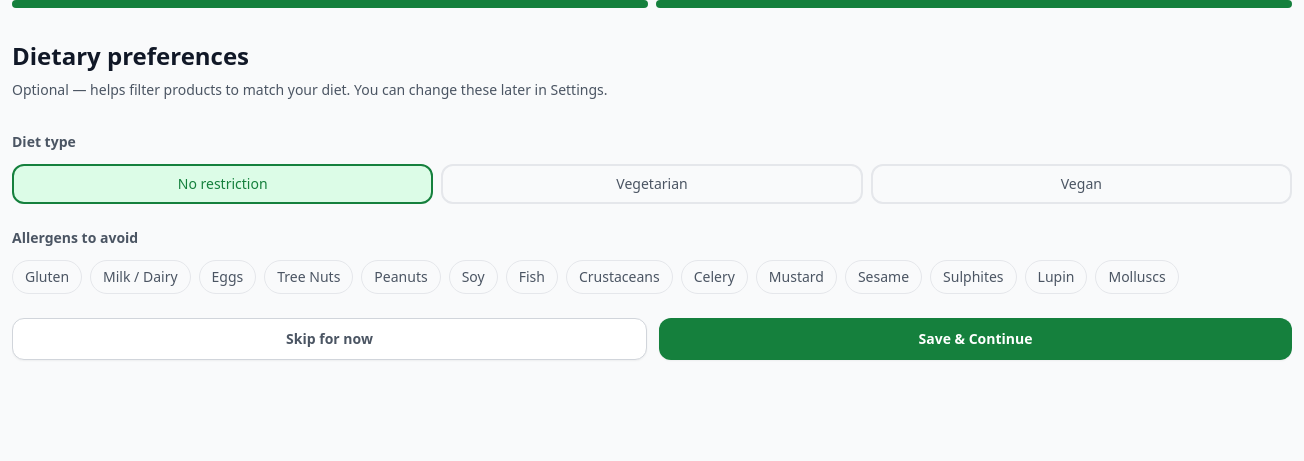
PreferencesForm › shows allergen strictness toggles after selecting an allergen
Step 1. Click the button "Gluten" → coordinates (47, 277), box [12,260,82,294]
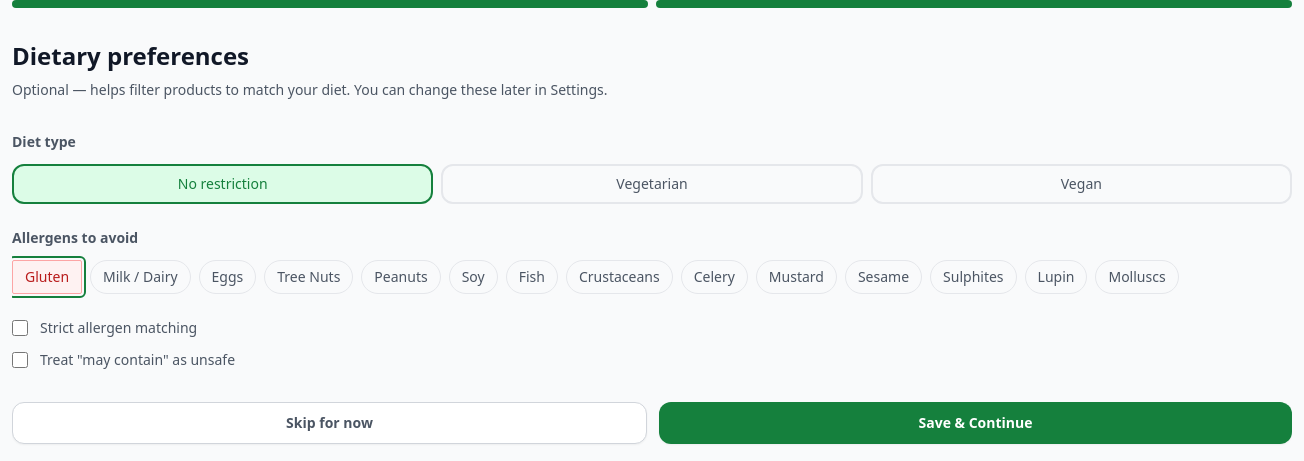
Now the text "Strict allergen matching" is shown, box [40,318,197,338]
Now the text "Treat \"may contain\" as unsafe" is shown, box [40,350,235,370]
